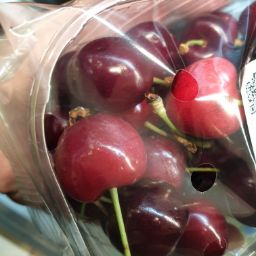Cherry: (132, 128, 237, 256), (144, 48, 247, 166), (52, 100, 145, 206), (63, 32, 157, 118), (180, 8, 251, 68), (124, 18, 183, 83)
